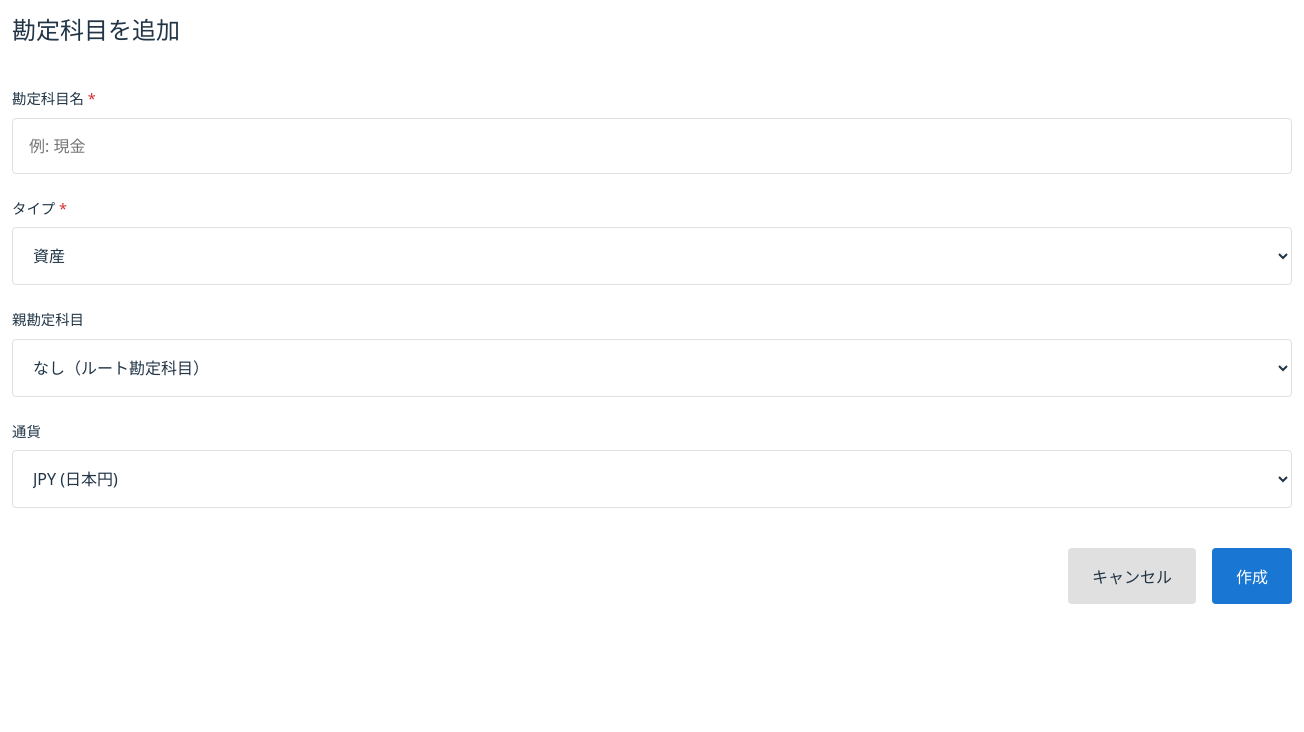
Scenario: AccountForm › validates duplicate account names
In the field labelled "勘定科目名 *": coordinates (652, 146) 12,118 -> 1292,174, type "資産"
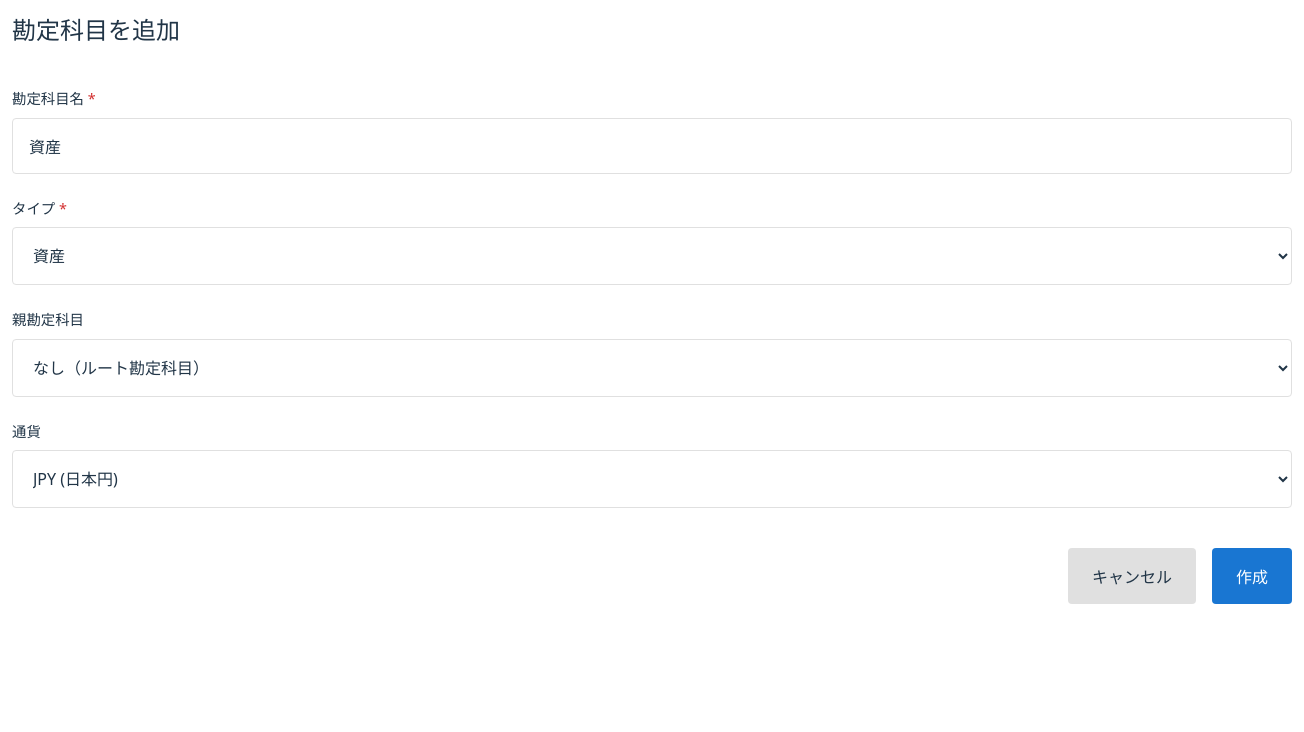
Click the button "作成": coordinates (1252, 576) 1212,548 -> 1292,604
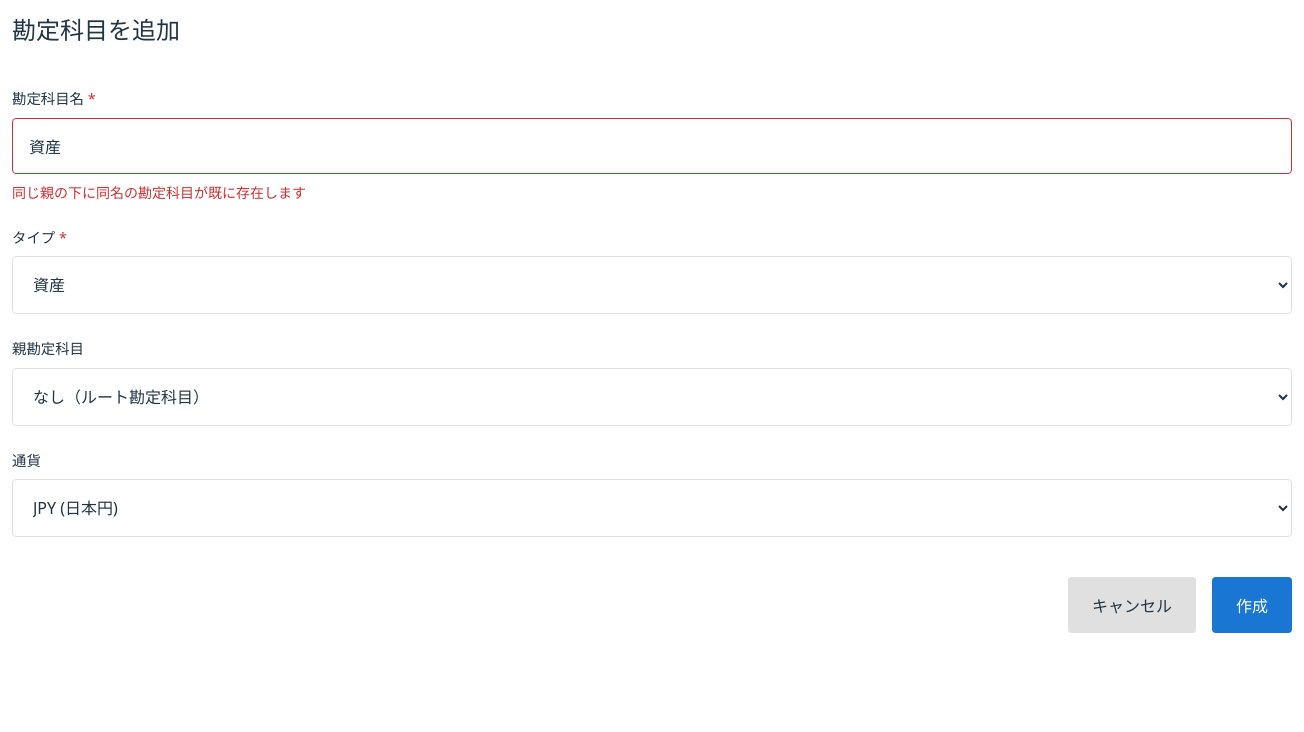
Now the text "同じ親の下に同名の勘定科目が既に存在します" is shown, box 12,183 -> 306,202
